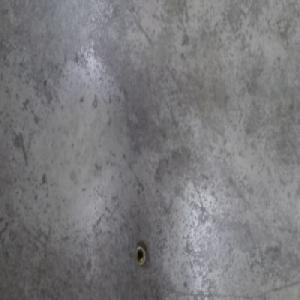Nut: (134, 242, 147, 268)
